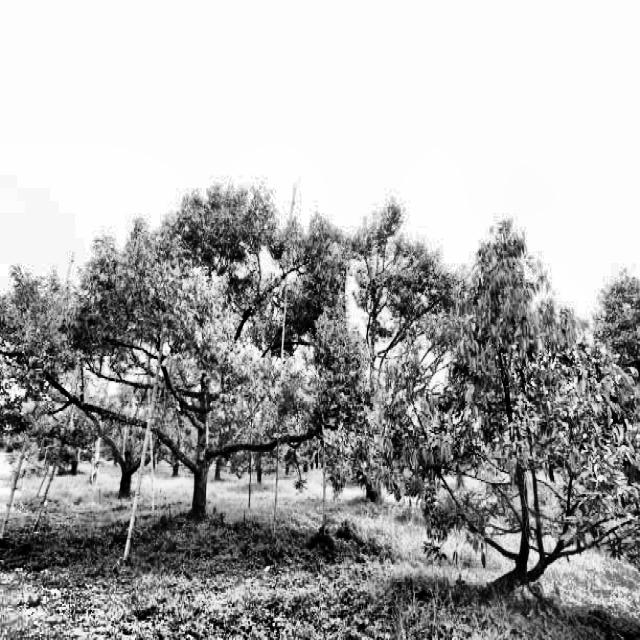arvore: (191, 347, 217, 528)
